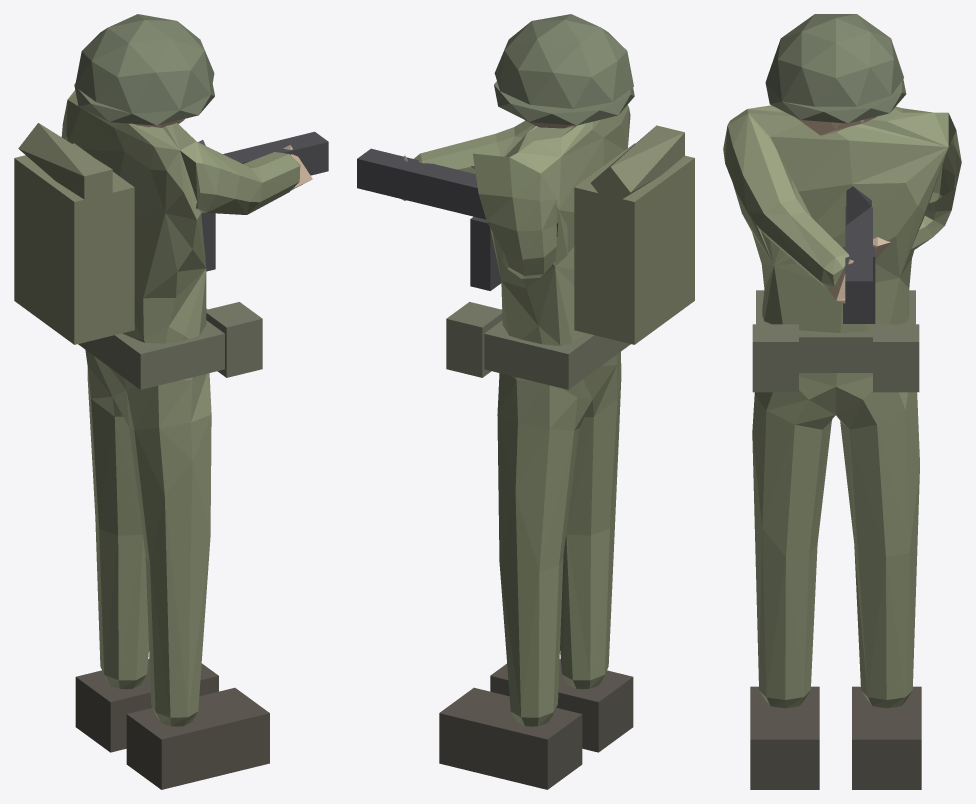
The model's file is trooper.lod1.glb.
The picture shows the model from 3 angles, left to right: view 1: azimuth 30°, elevation 25°; view 2: azimuth 150°, elevation 25°; view 3: azimuth 270°, elevation 25°; orthographic projection.
Bounding box in the file's own units: 0.72 × 1.74 × 0.5148.
